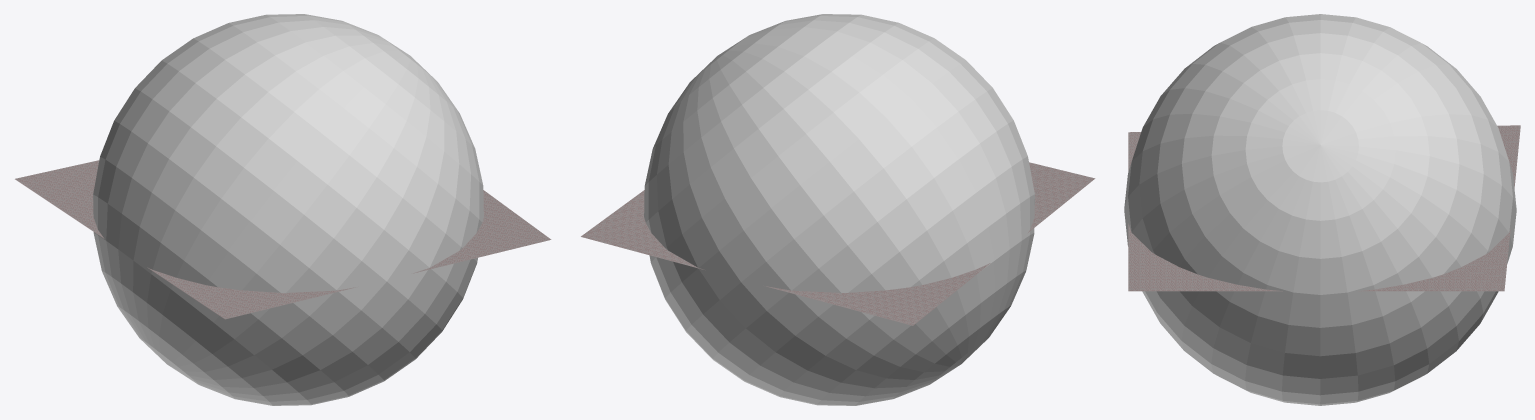
File: start_town_blend.glb
3 renders of one model, left to right at view 1: azimuth 30°, elevation 25°; view 2: azimuth 150°, elevation 25°; view 3: azimuth 270°, elevation 25°, orthographic.
Visible parts, largest first — view 1: Sphere, Plane; view 2: Sphere, Plane; view 3: Sphere, Plane.
Part boxes in pixels (<box>): Sphere: <box>93,14,483,405</box>; Plane: <box>15,160,551,319</box>; Sphere: <box>644,14,1034,405</box>; Plane: <box>581,162,1095,325</box>; Sphere: <box>1124,14,1516,405</box>; Plane: <box>1128,125,1520,291</box>.
Bounding box in the file's own units: 202 × 200 × 202.
Materials: 2 (1 with a texture image).
